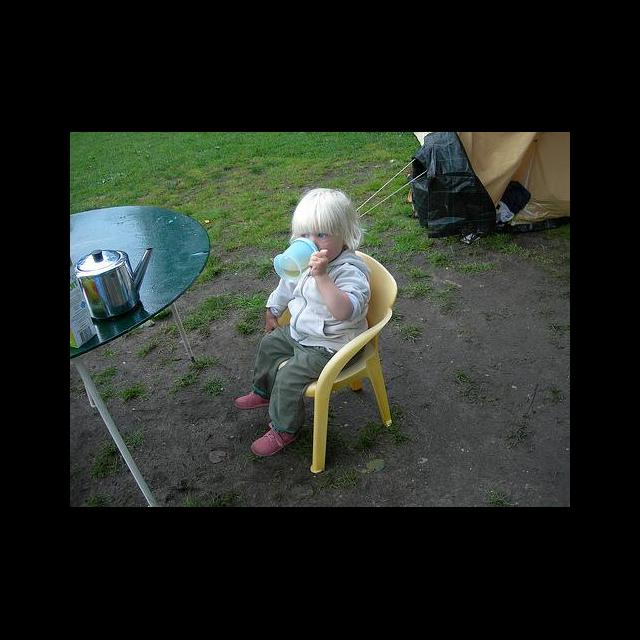NO-Hardhat: (291, 189, 358, 233)
NO-Mask: (310, 240, 344, 259)
NO-Safety Vest: (286, 260, 363, 346)
Person: (232, 188, 373, 459)
